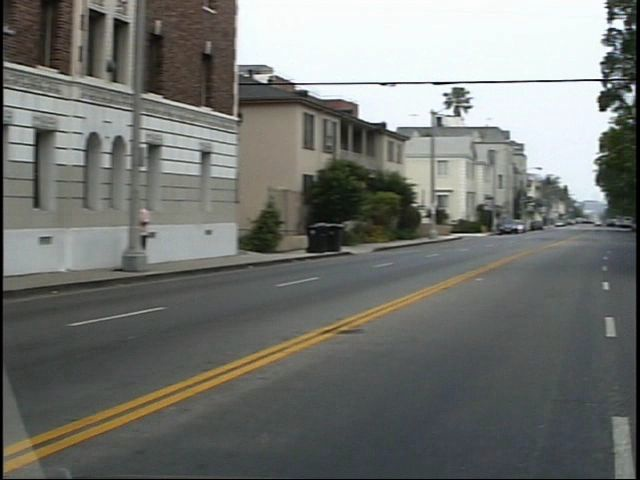person: (141, 194, 176, 269)
